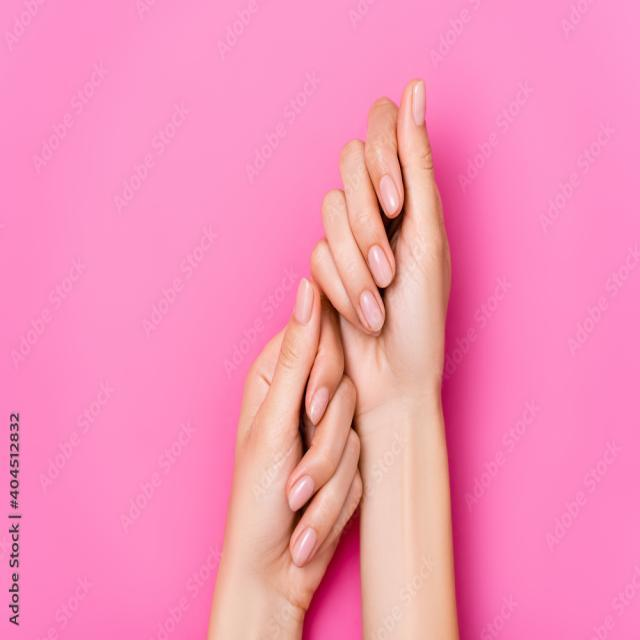Fingernail: (368, 246, 394, 285), (292, 528, 317, 565), (361, 291, 383, 331), (289, 475, 314, 510), (379, 175, 401, 214), (293, 278, 312, 322), (310, 387, 328, 421), (411, 82, 424, 127)
